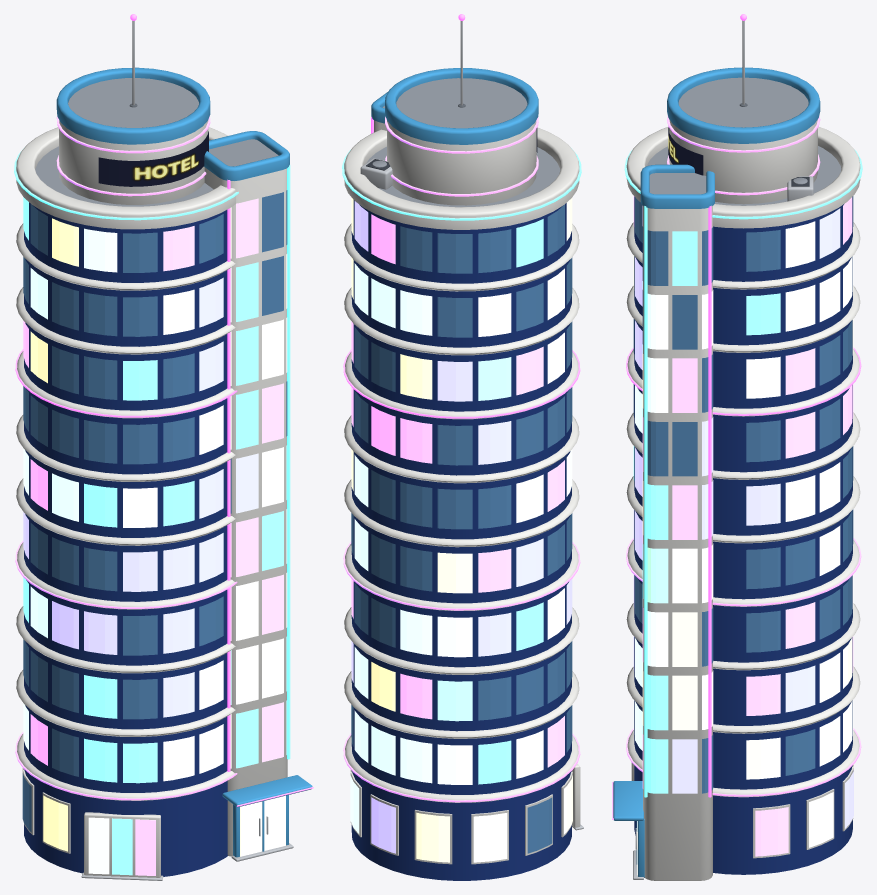
Rendered from torre_cilindro_hotel.glb.
The picture shows the model from 3 angles, left to right: view 1: azimuth 30°, elevation 25°; view 2: azimuth 150°, elevation 25°; view 3: azimuth 270°, elevation 25°; orthographic projection.
Visible parts, largest first — view 1: torre_cilindro_hotel; view 2: torre_cilindro_hotel; view 3: torre_cilindro_hotel.
Boxes of the visible parts, x1,y1,x2,y2 form: torre_cilindro_hotel: (14, 14, 313, 880); torre_cilindro_hotel: (342, 14, 583, 880); torre_cilindro_hotel: (612, 14, 862, 880).
Size of the model in its own units: 11.45 by 41.1 by 11.44.
13 materials, 2 textured.
